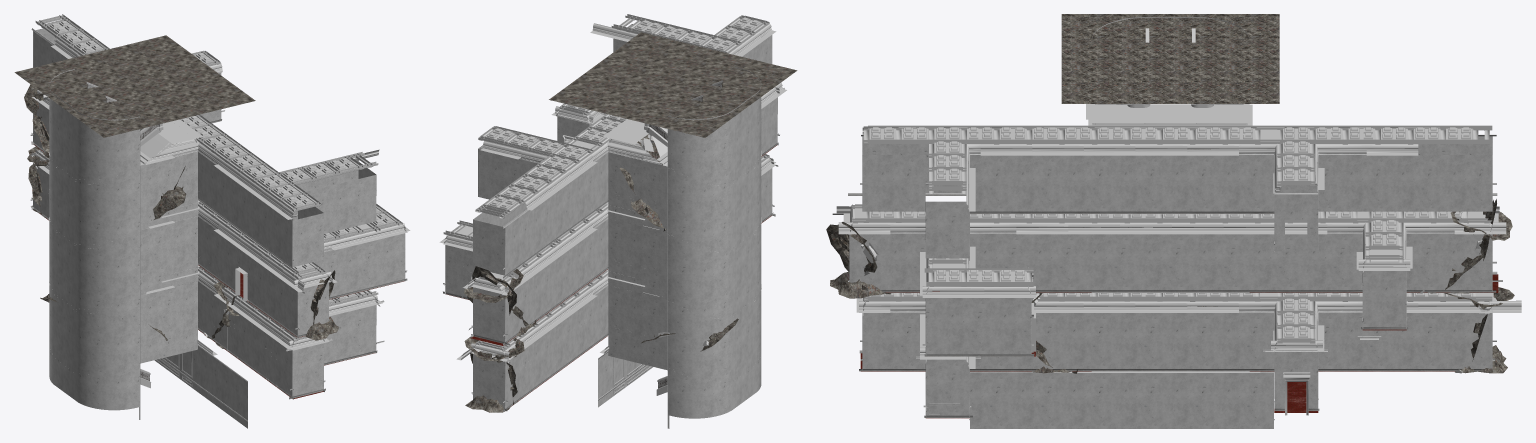
Rendered from Passage2.fbx.
3 renders of one model, left to right at view 1: azimuth 30°, elevation 25°; view 2: azimuth 150°, elevation 25°; view 3: azimuth 270°, elevation 25°, orthographic. The views are drawn at different scales.
Visible parts, largest first — view 1: LODGroup_1_MainMesh_1_SubMesh_15, LODGroup_1_MainMesh_1_SubMesh_19, LODGroup_1_MainMesh_1_SubMesh_1, LODGroup_1_MainMesh_1_SubMesh_5, LODGroup_1_MainMesh_1_SubMesh_3, LODGroup_1_MainMesh_1_SubMesh_4, LODGroup_1_MainMesh_1_SubMesh_8, LODGroup_1_MainMesh_1_SubMesh_18; view 2: LODGroup_1_MainMesh_1_SubMesh_15, LODGroup_1_MainMesh_1_SubMesh_19, LODGroup_1_MainMesh_1_SubMesh_1, LODGroup_1_MainMesh_1_SubMesh_5, LODGroup_1_MainMesh_1_SubMesh_3, LODGroup_1_MainMesh_1_SubMesh_4, LODGroup_1_MainMesh_1_SubMesh_8, LODGroup_1_MainMesh_1_SubMesh_18; view 3: LODGroup_1_MainMesh_1_SubMesh_15, LODGroup_1_MainMesh_1_SubMesh_1, LODGroup_1_MainMesh_1_SubMesh_5, LODGroup_1_MainMesh_1_SubMesh_19, LODGroup_1_MainMesh_1_SubMesh_4, LODGroup_1_MainMesh_1_SubMesh_3, LODGroup_1_MainMesh_1_SubMesh_8, LODGroup_1_MainMesh_1_SubMesh_18, LODGroup_1_MainMesh_1_SubMesh_16.
Boxes of the visible parts, x1,y1,x2,y2 form: LODGroup_1_MainMesh_1_SubMesh_15: (33, 28, 405, 428); LODGroup_1_MainMesh_1_SubMesh_19: (14, 35, 255, 137); LODGroup_1_MainMesh_1_SubMesh_1: (35, 14, 402, 341); LODGroup_1_MainMesh_1_SubMesh_5: (30, 38, 410, 355); LODGroup_1_MainMesh_1_SubMesh_3: (24, 84, 339, 348); LODGroup_1_MainMesh_1_SubMesh_4: (30, 28, 407, 421); LODGroup_1_MainMesh_1_SubMesh_8: (37, 119, 373, 313); LODGroup_1_MainMesh_1_SubMesh_18: (33, 144, 404, 398); LODGroup_1_MainMesh_1_SubMesh_15: (445, 24, 777, 418); LODGroup_1_MainMesh_1_SubMesh_19: (549, 32, 797, 137); LODGroup_1_MainMesh_1_SubMesh_1: (443, 14, 769, 351); LODGroup_1_MainMesh_1_SubMesh_5: (439, 23, 786, 361); LODGroup_1_MainMesh_1_SubMesh_3: (463, 128, 738, 412); LODGroup_1_MainMesh_1_SubMesh_4: (443, 88, 784, 428); LODGroup_1_MainMesh_1_SubMesh_8: (454, 119, 761, 351); LODGroup_1_MainMesh_1_SubMesh_18: (446, 145, 777, 406); LODGroup_1_MainMesh_1_SubMesh_15: (849, 17, 1492, 428); LODGroup_1_MainMesh_1_SubMesh_1: (852, 125, 1492, 343); LODGroup_1_MainMesh_1_SubMesh_5: (836, 104, 1521, 372); LODGroup_1_MainMesh_1_SubMesh_19: (1061, 14, 1279, 103); LODGroup_1_MainMesh_1_SubMesh_4: (832, 134, 1502, 420); LODGroup_1_MainMesh_1_SubMesh_3: (826, 149, 1514, 373); LODGroup_1_MainMesh_1_SubMesh_8: (855, 104, 1493, 298); LODGroup_1_MainMesh_1_SubMesh_18: (860, 274, 1498, 418); LODGroup_1_MainMesh_1_SubMesh_16: (1031, 303, 1381, 415).
Bounding box in the file's own units: 938 × 1112 × 1862.
